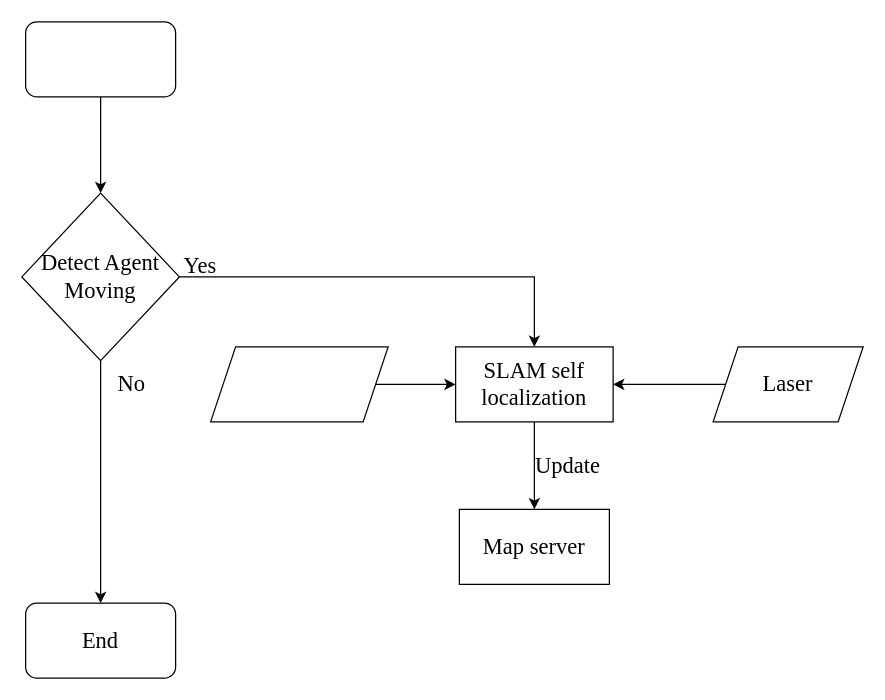
Image size: 885x700. Some labels were removed from this diagram. The centre of each missing label's shape, as x and y in pixels:
Odometry data: point 298,384
Start: point 100,59
